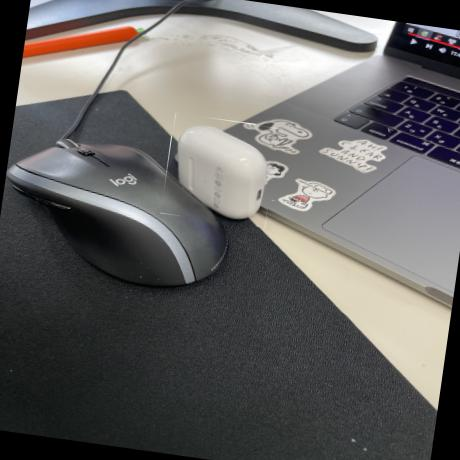airpod3: (161, 113, 280, 229)
